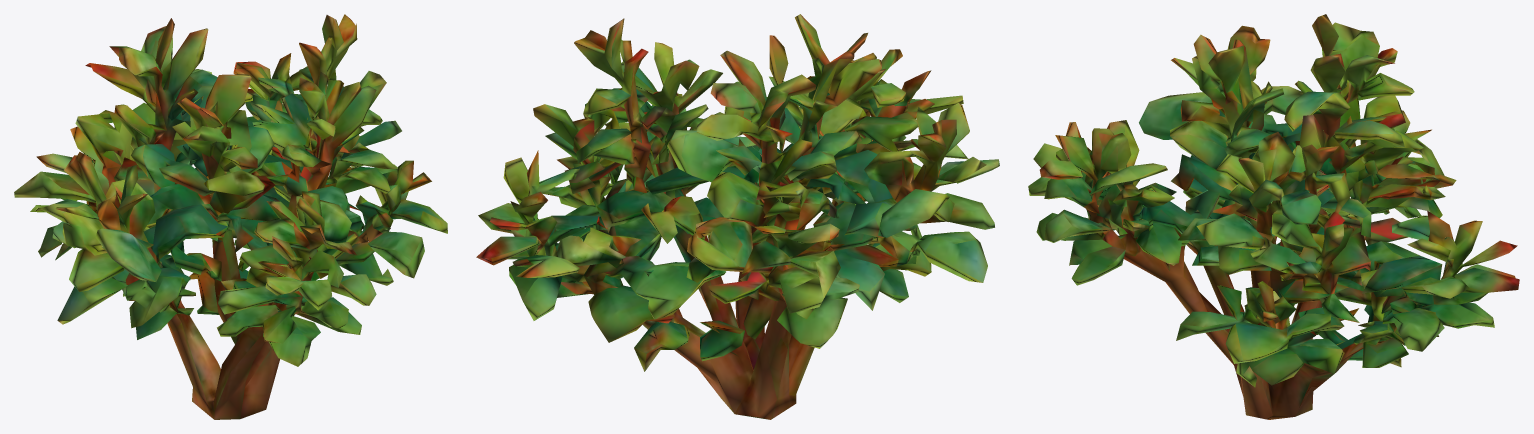
Rendered from blueberry.glb.
3 views of the same model, side by side, from view 1: azimuth 30°, elevation 25°; view 2: azimuth 150°, elevation 25°; view 3: azimuth 270°, elevation 25° (orthographic). The views are drawn at different scales.
Visible parts, largest first — view 1: textured_mesh.obj; view 2: textured_mesh.obj; view 3: textured_mesh.obj.
Part boxes in pixels (x1,y1,x2,y2): textured_mesh.obj: (14, 14, 447, 419); textured_mesh.obj: (476, 14, 999, 419); textured_mesh.obj: (1028, 14, 1519, 419).
Size of what is drawn, in the model's own units: 2.18 by 2 by 2.35.
1 material, 1 textured.
